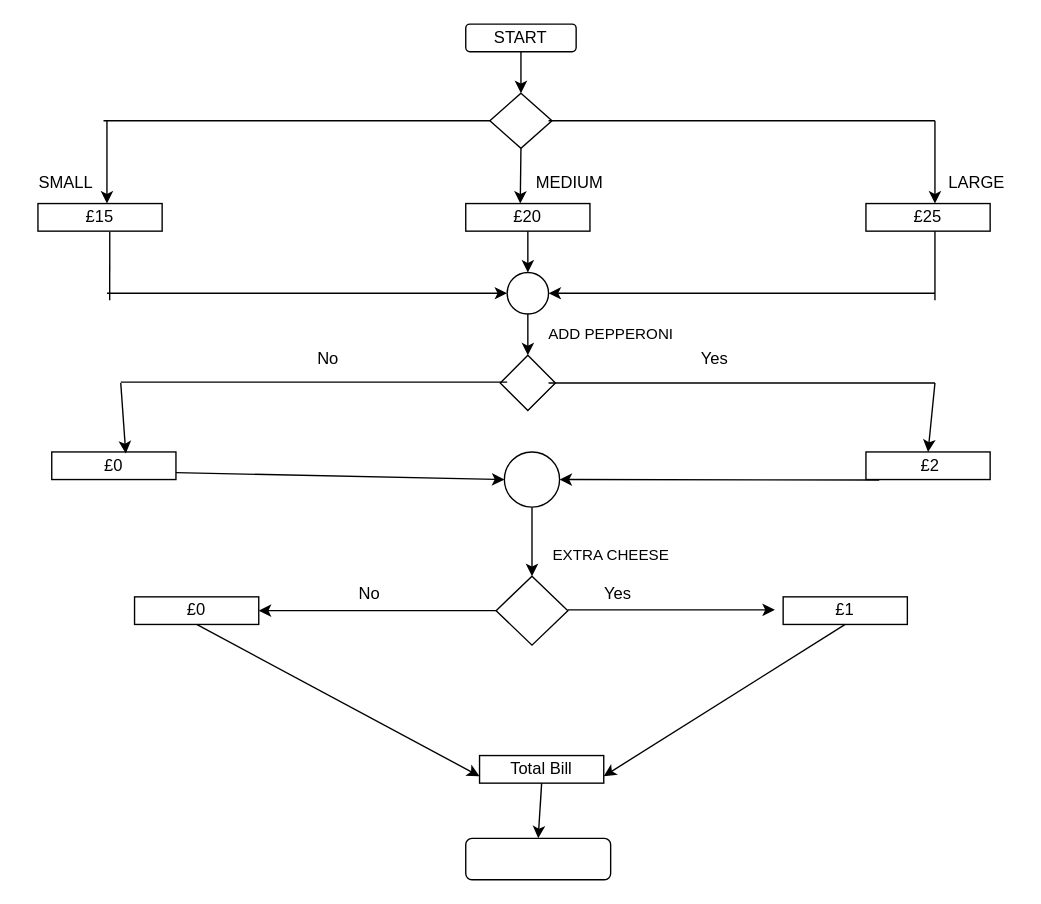
The diagram is 1041 pixels wide and 904 high, and some of its shapes have lost their labels. Here are the shapes that lost their labels. From the top down, the box of each, then its label:
(489, 92, 552, 148): SIZE
(464, 837, 611, 880): END
